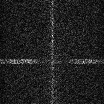wifi: (1, 58, 104, 64)
